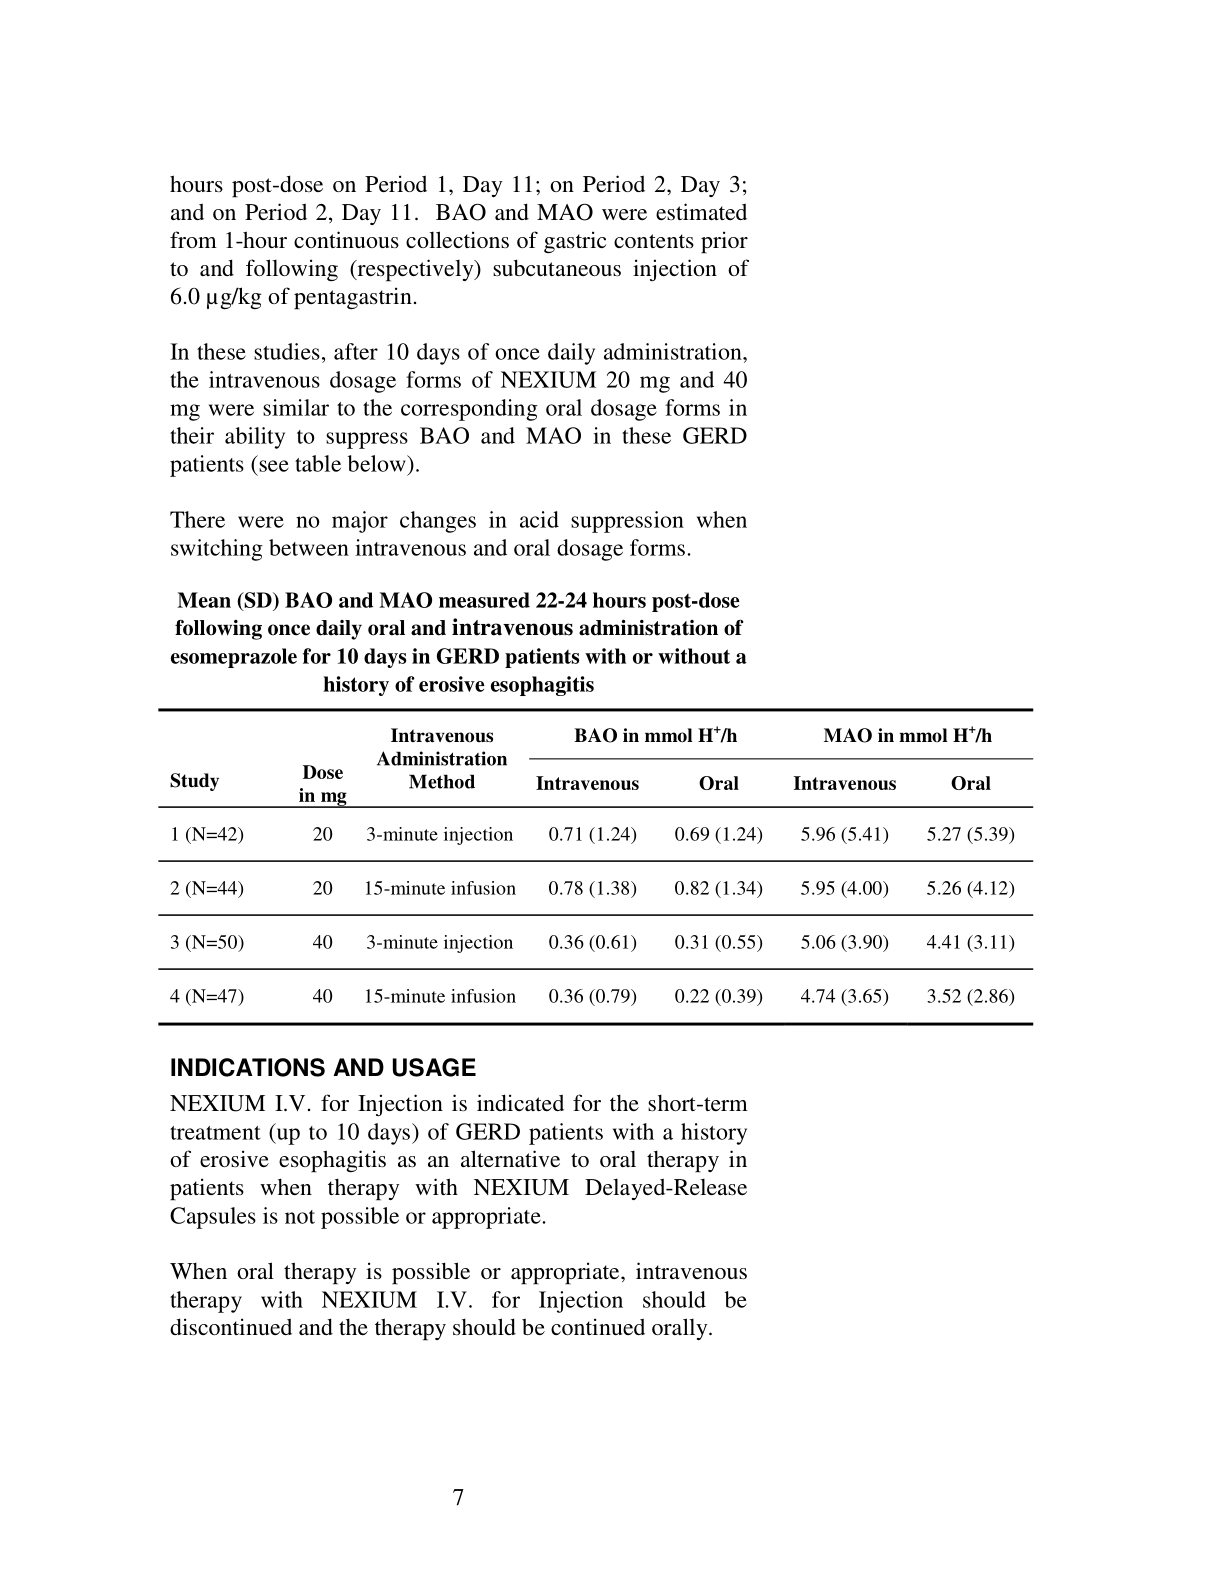partial_lined_merged_cells: (157, 707, 1034, 1027)
